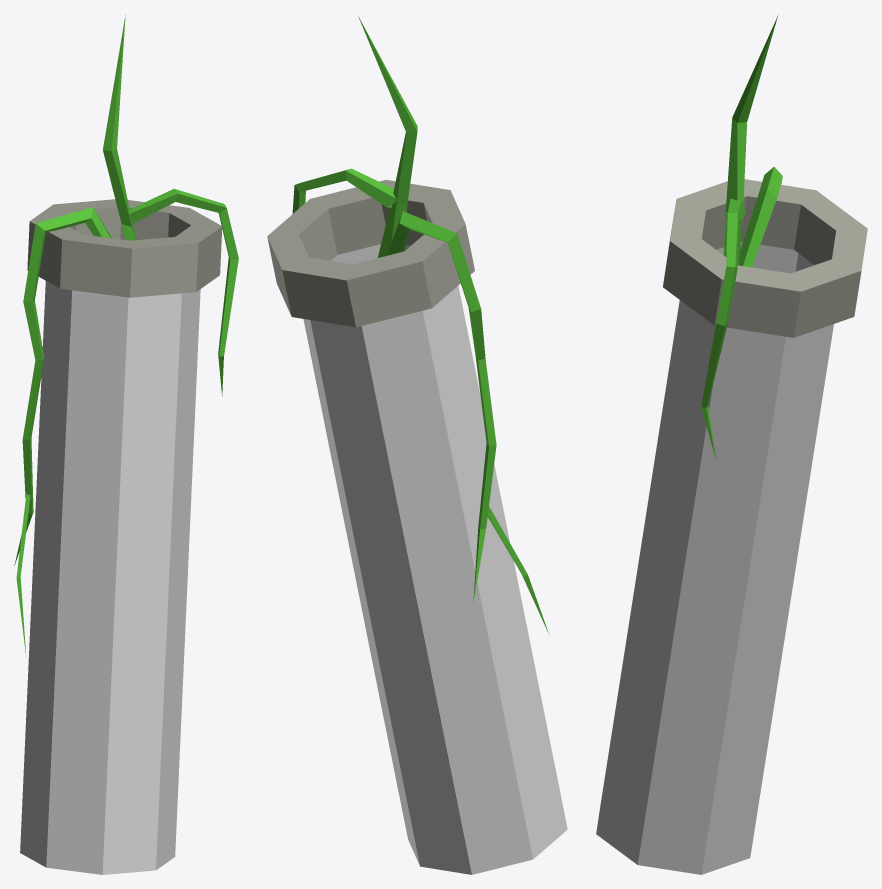
Rendered from 种试管1.fbx.
3 renders of one model, left to right at view 1: azimuth 30°, elevation 25°; view 2: azimuth 150°, elevation 25°; view 3: azimuth 270°, elevation 25°, orthographic. The views are drawn at different scales.
Visible parts, largest first — view 1: 柱体.017; view 2: 柱体.017; view 3: 柱体.017.
Boxes of the visible parts, x1,y1,x2,y2 form: 柱体.017: (14,15,238,874); 柱体.017: (267,16,567,874); 柱体.017: (596,15,867,874).
Size of the model in its own units: 51.45 by 173 by 49.13.
